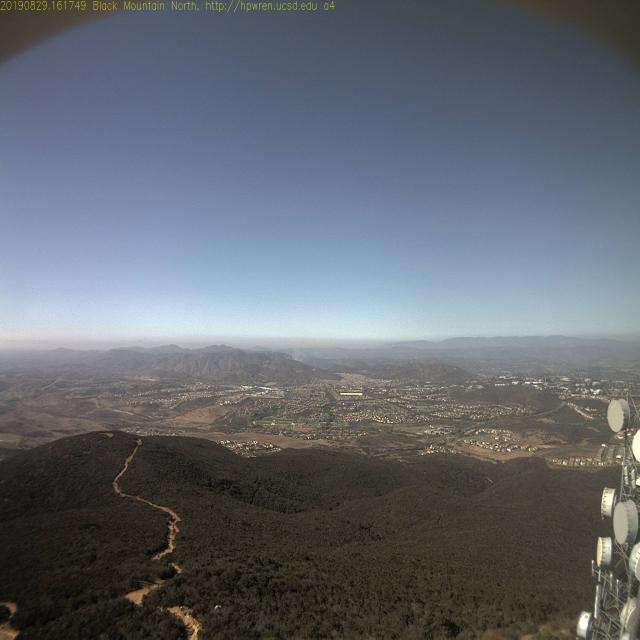smoke: (287, 343, 315, 365)
